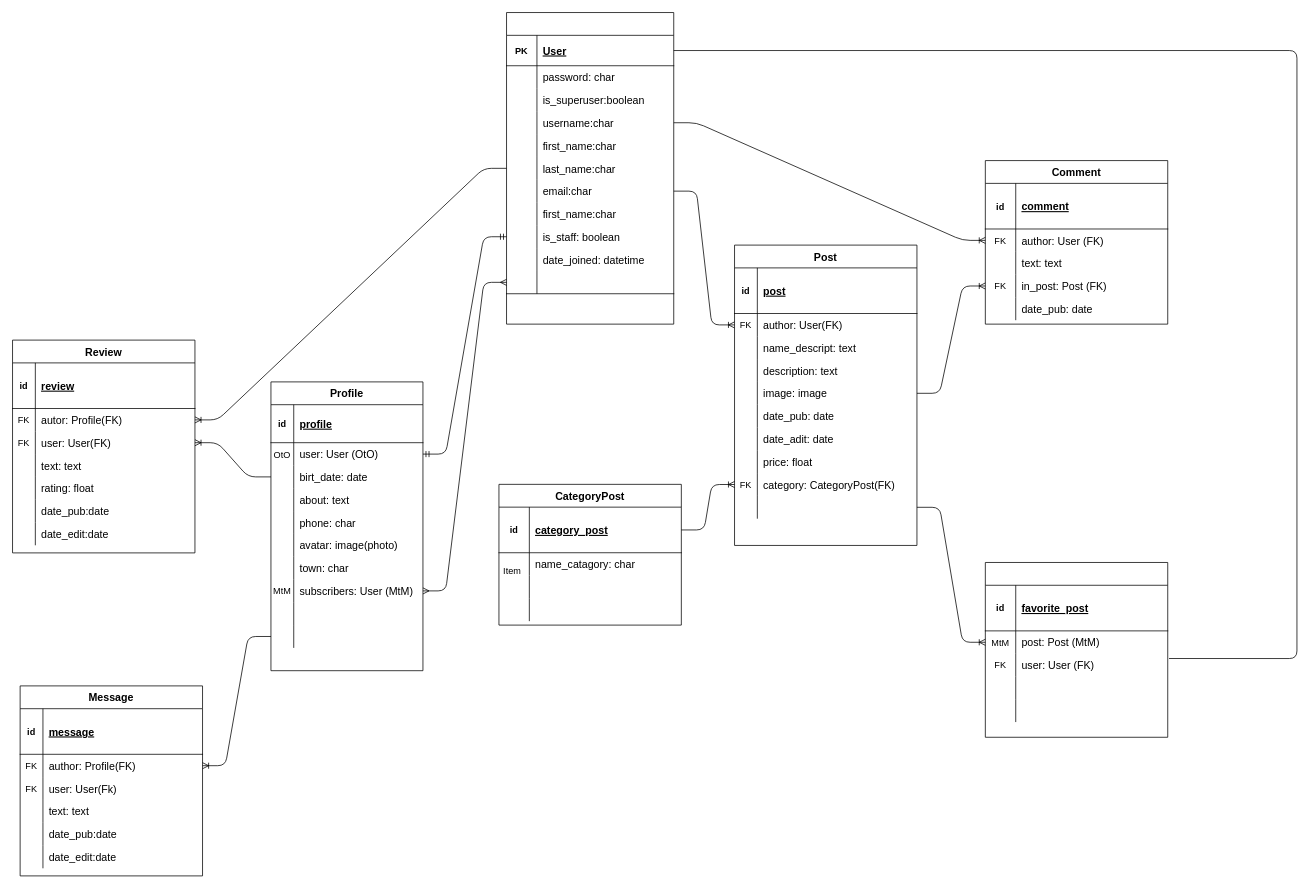
Some shapes in this 1309 by 888 pixel diagram are drawn without their labels. The box of each missing label's shape, as (x1, y1, x2, y2) in pixels:
FavouritePost: (985, 562, 1168, 737)
User (Abstract class): (506, 12, 674, 324)
